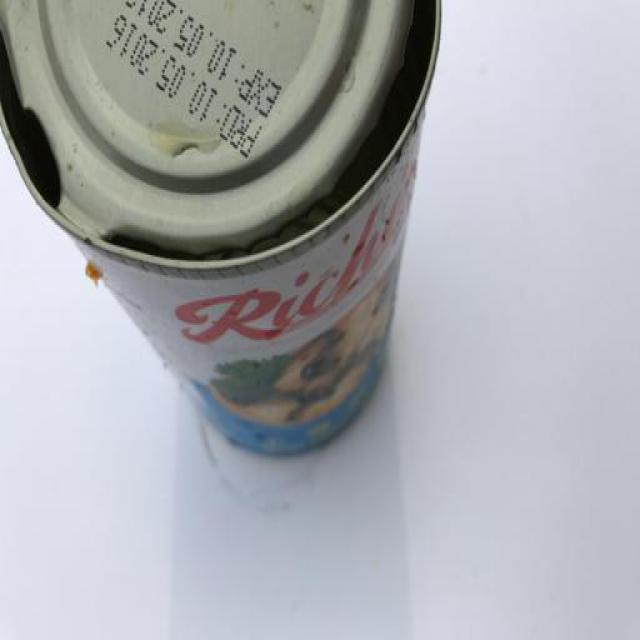metel: (3, 3, 468, 463)
